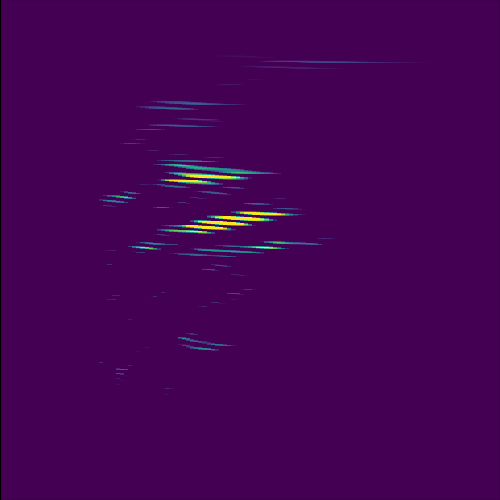semblance: (160, 207, 302, 238), (157, 161, 269, 191)
